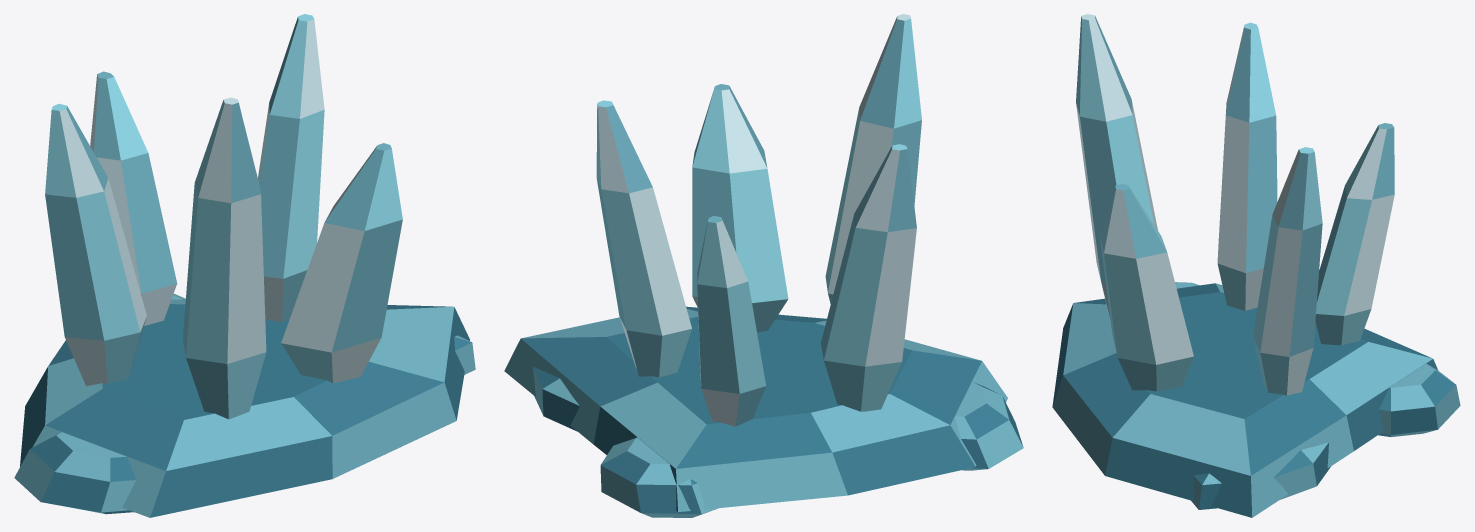
File: BH_ORE_O08_Quartzo_Espectral_V01.glb
The picture shows the model from 3 angles, left to right: view 1: azimuth 30°, elevation 25°; view 2: azimuth 150°, elevation 25°; view 3: azimuth 270°, elevation 25°; orthographic projection. The views are drawn at different scales.
Parts seen in each view (by area): view 1: Bedrock | primary.001, O08 | shard 3.001, O08 | shard 2.001, O08 | shard 4.001, O08 | shard 5.001, O08 | shard 1.001, Bedrock | shoulder 1.001, Bedrock | shoulder 2.001; view 2: Bedrock | primary.001, O08 | shard 2.001, O08 | shard 5.001, O08 | shard 4.001, O08 | shard 1.001, O08 | shard 3.001, Bedrock | shoulder 3.001, Bedrock | shoulder 1.001, Bedrock | shoulder 2.001; view 3: Bedrock | primary.001, O08 | shard 4.001, O08 | shard 2.001, O08 | shard 5.001, O08 | shard 1.001, O08 | shard 3.001, Bedrock | shoulder 3.001, Bedrock | shoulder 2.001.
Boxes of the visible parts, x1,y1,x2,y2 form: Bedrock | primary.001: [20, 299, 469, 517]; O08 | shard 3.001: [182, 97, 266, 419]; O08 | shard 2.001: [45, 103, 146, 386]; O08 | shard 4.001: [281, 143, 402, 383]; O08 | shard 5.001: [258, 14, 324, 321]; O08 | shard 1.001: [90, 71, 177, 325]; Bedrock | shoulder 1.001: [14, 432, 135, 514]; Bedrock | shoulder 2.001: [454, 335, 475, 374]; Bedrock | primary.001: [504, 306, 1007, 511]; O08 | shard 2.001: [820, 144, 916, 411]; O08 | shard 5.001: [596, 100, 691, 377]; O08 | shard 4.001: [692, 84, 788, 332]; O08 | shard 1.001: [697, 215, 765, 426]; O08 | shard 3.001: [825, 14, 921, 303]; Bedrock | shoulder 3.001: [600, 437, 717, 517]; Bedrock | shoulder 1.001: [955, 382, 1023, 470]; Bedrock | shoulder 2.001: [533, 366, 579, 431]; Bedrock | primary.001: [1052, 283, 1437, 517]; O08 | shard 4.001: [1099, 184, 1193, 391]; O08 | shard 2.001: [1217, 22, 1277, 310]; O08 | shard 5.001: [1253, 147, 1322, 395]; O08 | shard 1.001: [1315, 123, 1394, 345]; O08 | shard 3.001: [1076, 14, 1157, 322]; Bedrock | shoulder 3.001: [1378, 363, 1460, 436]; Bedrock | shoulder 2.001: [1191, 442, 1330, 509].
Size of the model in its own units: 2.65 by 2.1 by 2.1.
